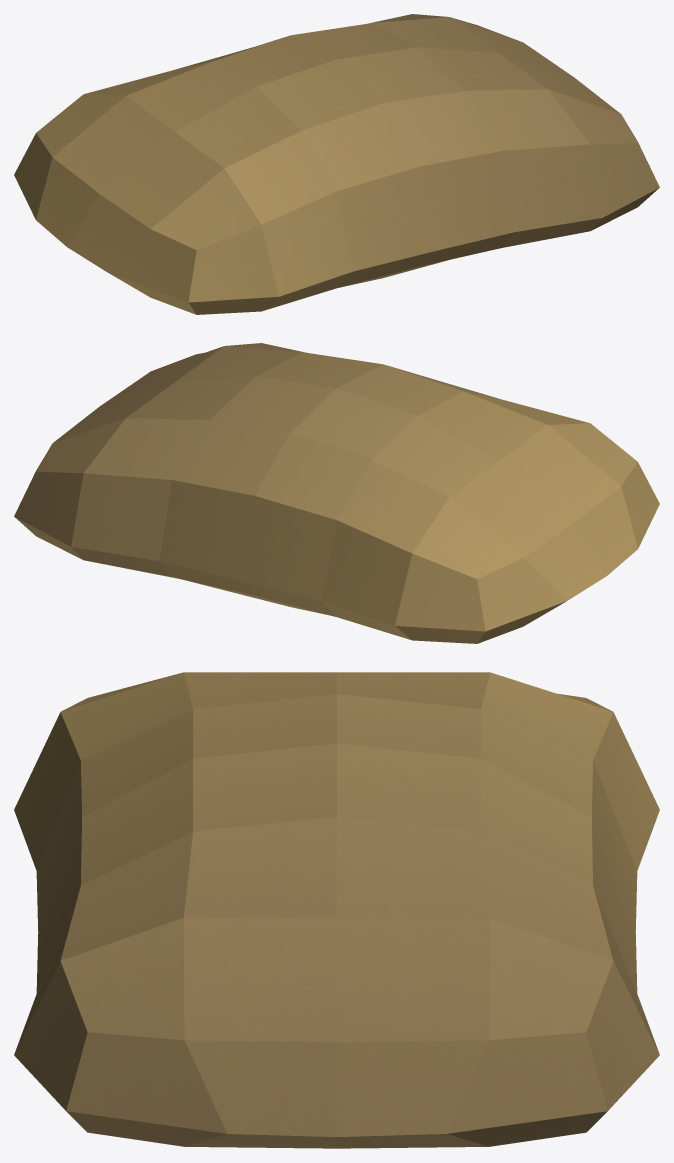
Rendered from Sack_1A.fbx.
3 renders of one model, top to bottom at view 1: azimuth 30°, elevation 25°; view 2: azimuth 150°, elevation 25°; view 3: azimuth 270°, elevation 25°, orthographic. The views are drawn at different scales.
Visible parts, largest first — view 1: pCube195; view 2: pCube195; view 3: pCube195.
Part boxes in pixels (<box>): pCube195: <box>14,14,659,314</box>; pCube195: <box>14,343,659,643</box>; pCube195: <box>14,672,659,1148</box>.
Bounding box in the file's own units: 167 × 54.54 × 111.
